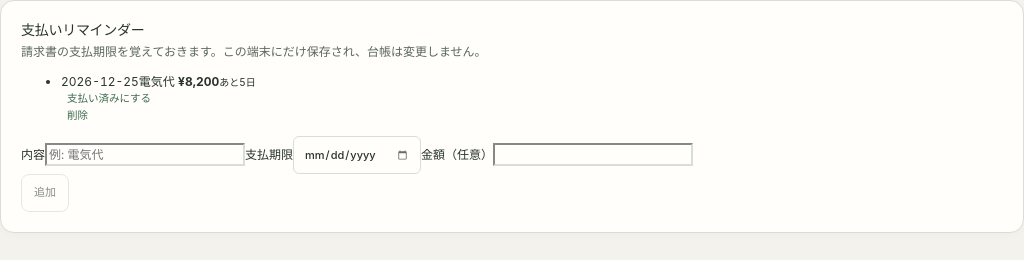
Test: BillRemindersPanel › marks a reminder paid and back, and deletes it
The image size is (1024, 260).
Click the button "支払い済みにする": [109, 99] box [61,90,157,107]
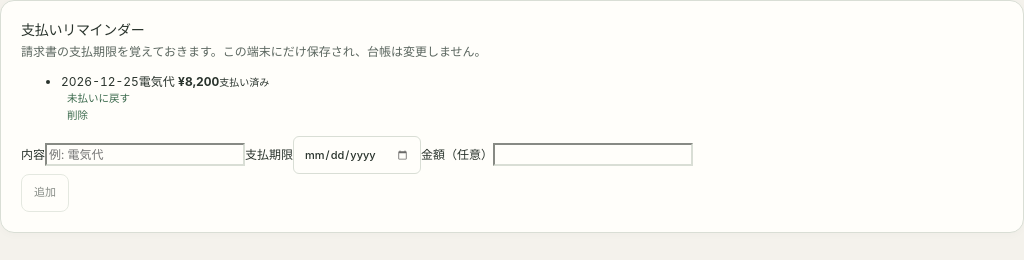
Click the button "未払いに戻す": [98, 99] box [61,90,136,107]
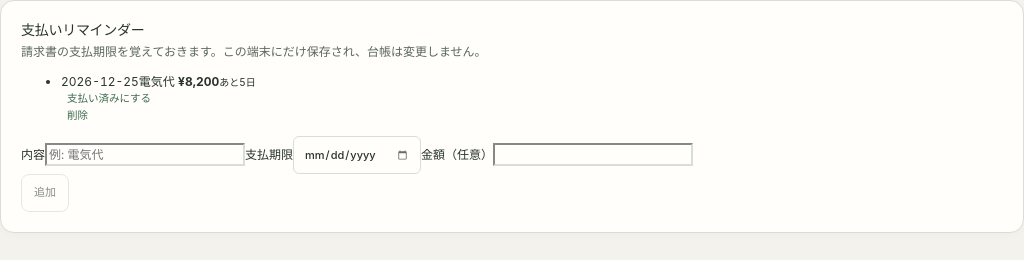
Click the button with aria-label "電気代 を削除": [78, 116] box [61,107,94,124]
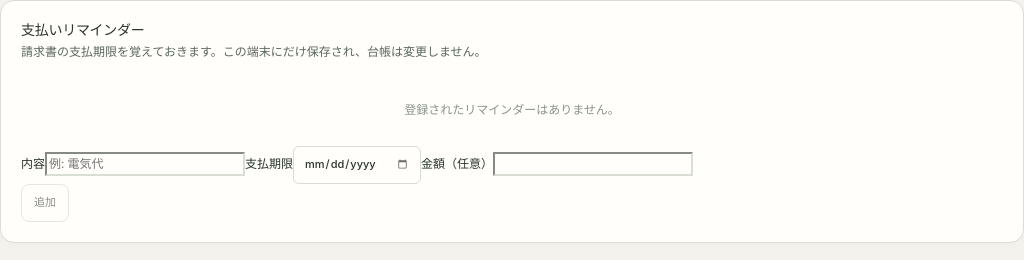
Result: the text "登録されたリマインダーはありません。" is shown at [404,102,620,117]
